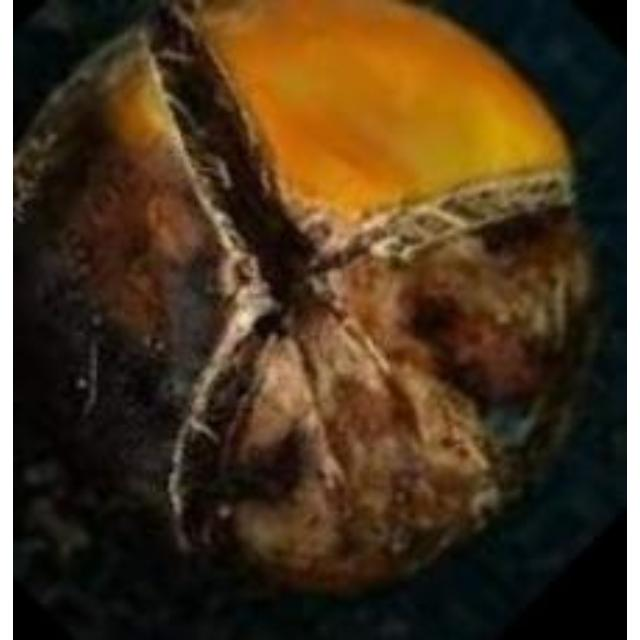damaged: (13, 0, 603, 598)
